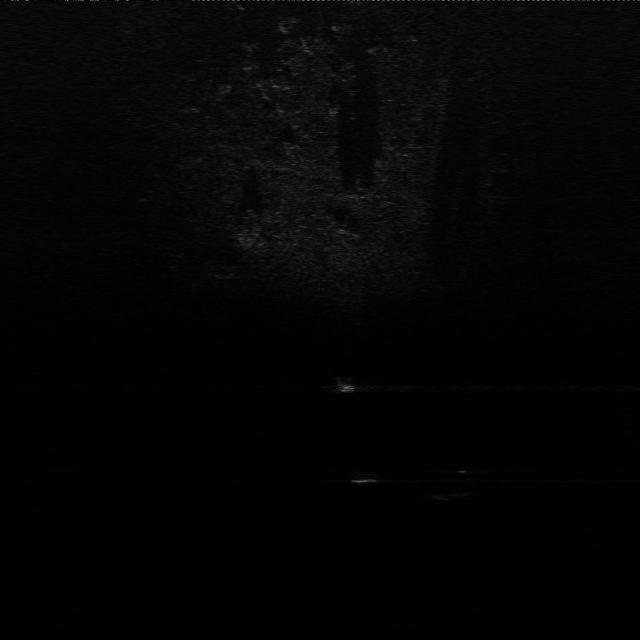cube: (349, 467, 393, 489)
square cage: (333, 376, 367, 396)
tyre: (428, 460, 479, 504)
